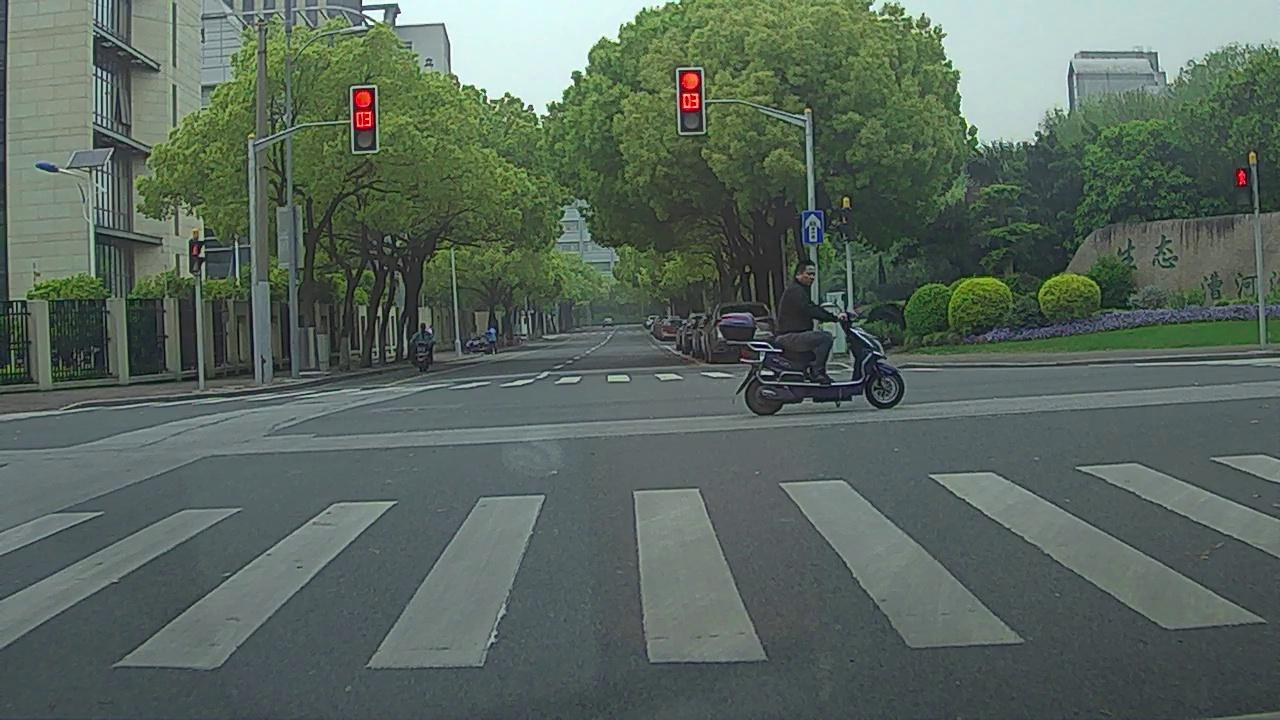traffic_light: (353, 85, 376, 149), (680, 71, 703, 134)
